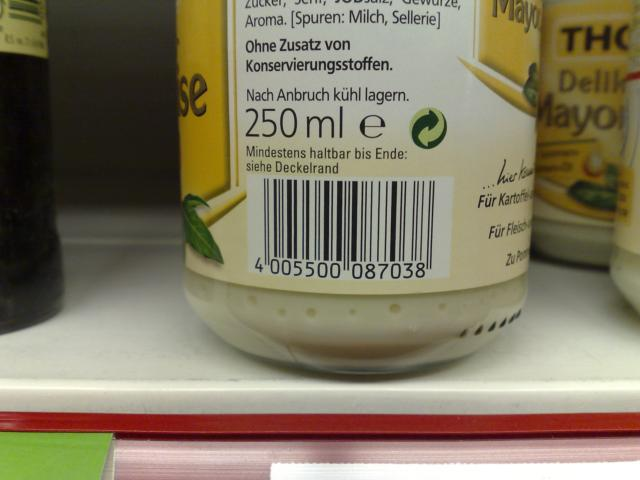Barkod: (262, 176, 435, 258)
